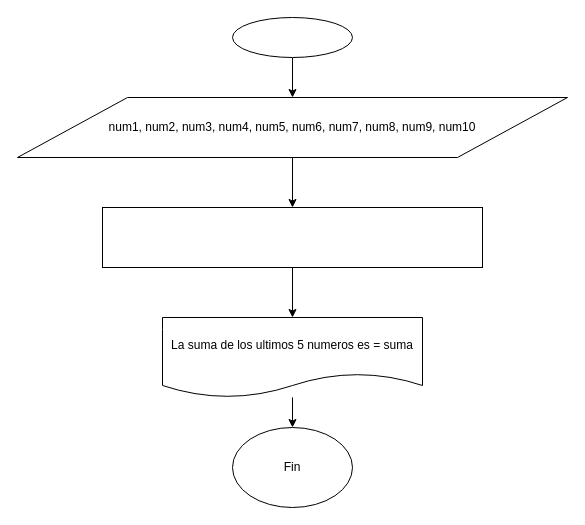
Image size: 585x525. Some labels were removed from this diagram. The shapes that lost their labels are listed below. From the top down, each one's centre as x and y in pixels, then its label:
At point 292,37: "Inicio".
At point 292,237: "suma = num6 + num7+ num8 + num9 + num10".
